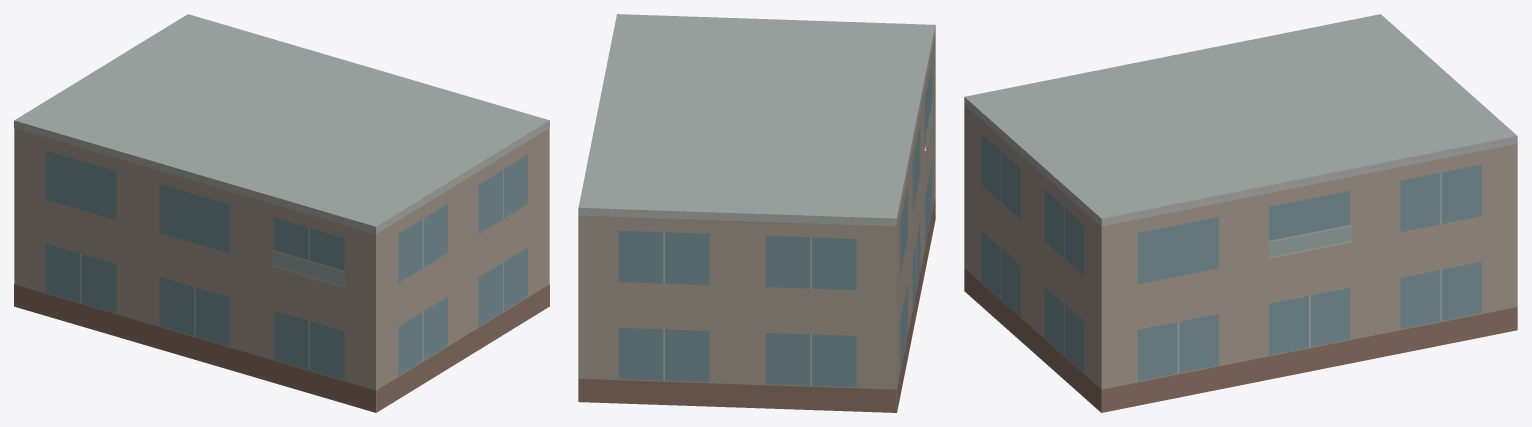
Rendered from survey-upis-32704779.glb.
The picture shows the model from 3 angles, left to right: view 1: azimuth 30°, elevation 25°; view 2: azimuth 150°, elevation 25°; view 3: azimuth 270°, elevation 25°; orthographic projection. The views are drawn at different scales.
Parts seen in each view (by area): view 1: survey-upis-32704779.tmp; view 2: survey-upis-32704779.tmp; view 3: survey-upis-32704779.tmp.
Boxes of the visible parts, x1,y1,x2,y2 form: survey-upis-32704779.tmp: (14,14,549,412); survey-upis-32704779.tmp: (578,14,935,412); survey-upis-32704779.tmp: (964,14,1517,412).
Bounding box in the file's own units: 13.8 × 6.1 × 15.76.
